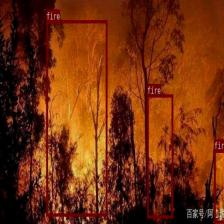fire: (46, 20, 107, 215), (147, 94, 173, 218), (213, 148, 224, 222)
